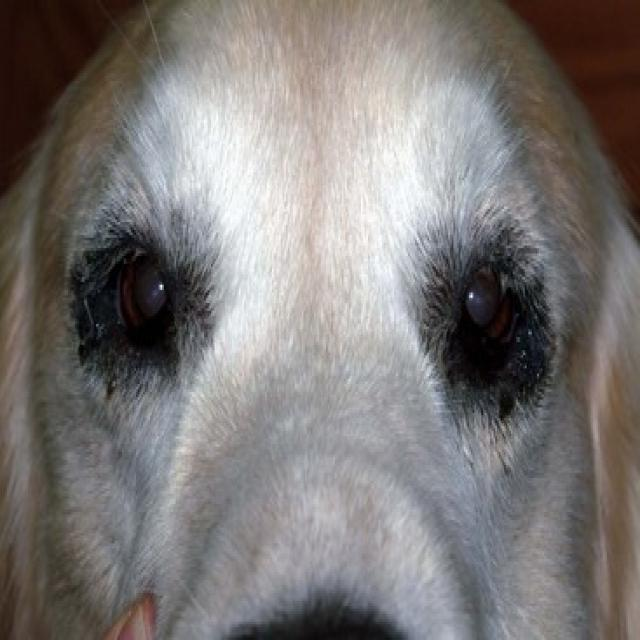allergic dermatitis: (422, 250, 459, 406), (170, 240, 218, 359), (72, 234, 114, 363), (516, 247, 548, 413), (448, 379, 537, 433), (454, 203, 528, 263), (88, 348, 190, 388), (78, 208, 176, 247)
